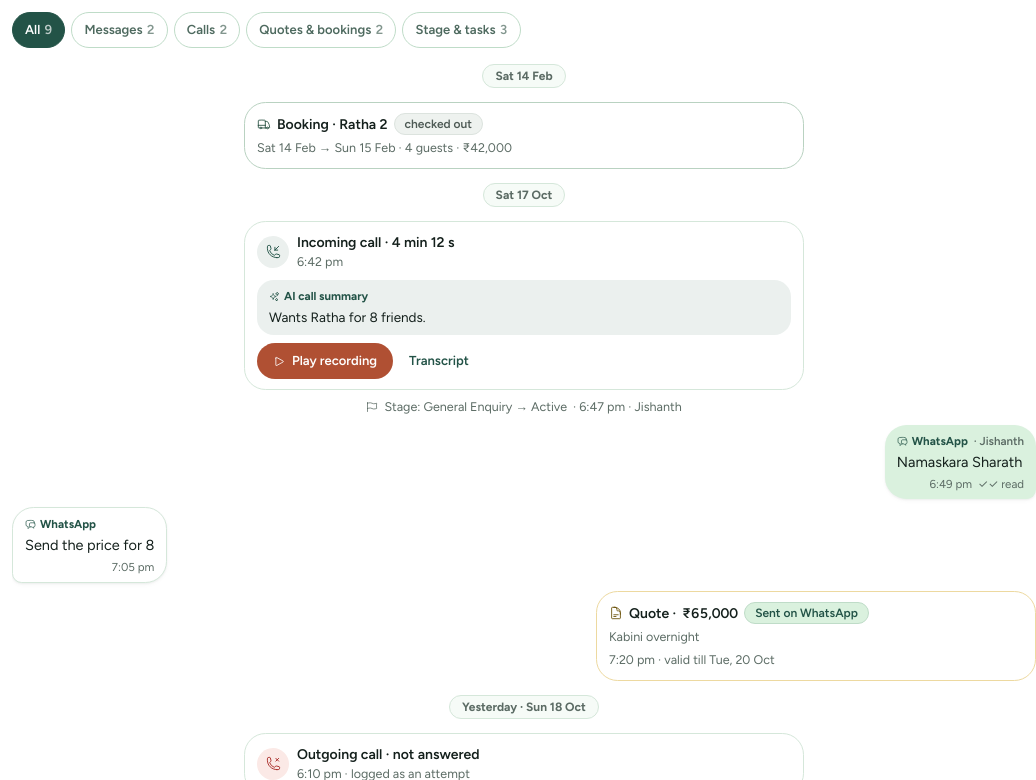
it: LeadThread › filters to one kind
The width and height of the screenshot is (1036, 780).
Click the button "Calls 2": (207, 30) x1=174 y1=12 x2=240 y2=48
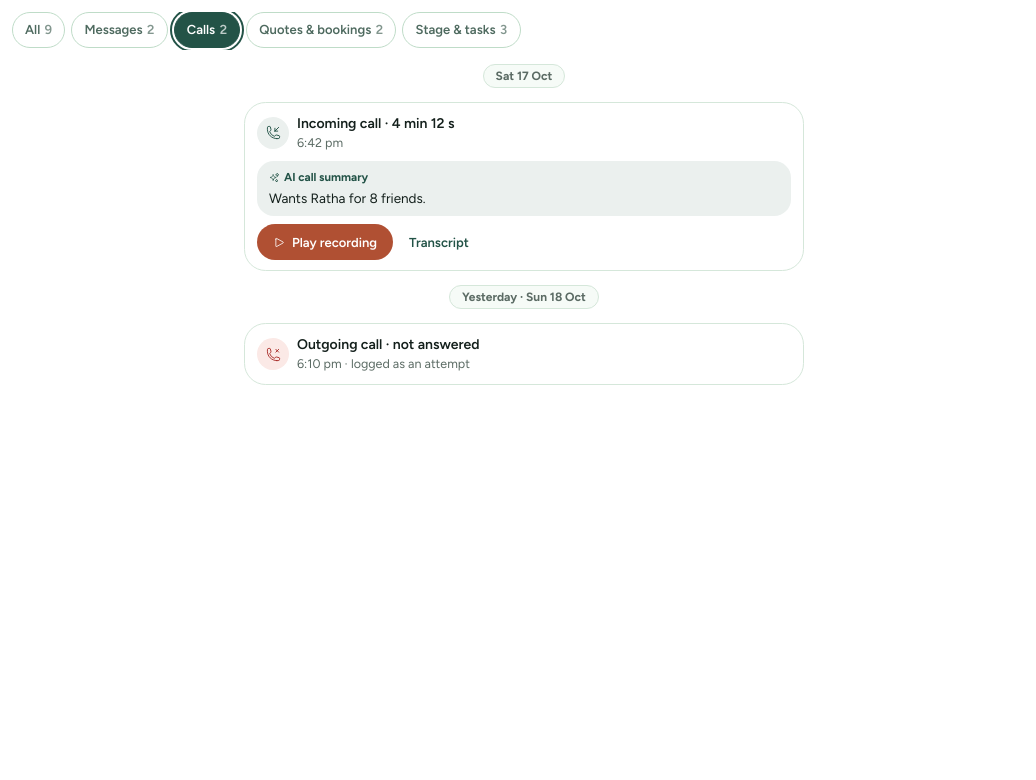
Expected: the number of elements with test id "thread-call" is 2, x1=244 y1=102 x2=804 y2=271; x1=244 y1=323 x2=804 y2=385
Expected: the element with test id "thread-message" is gone
